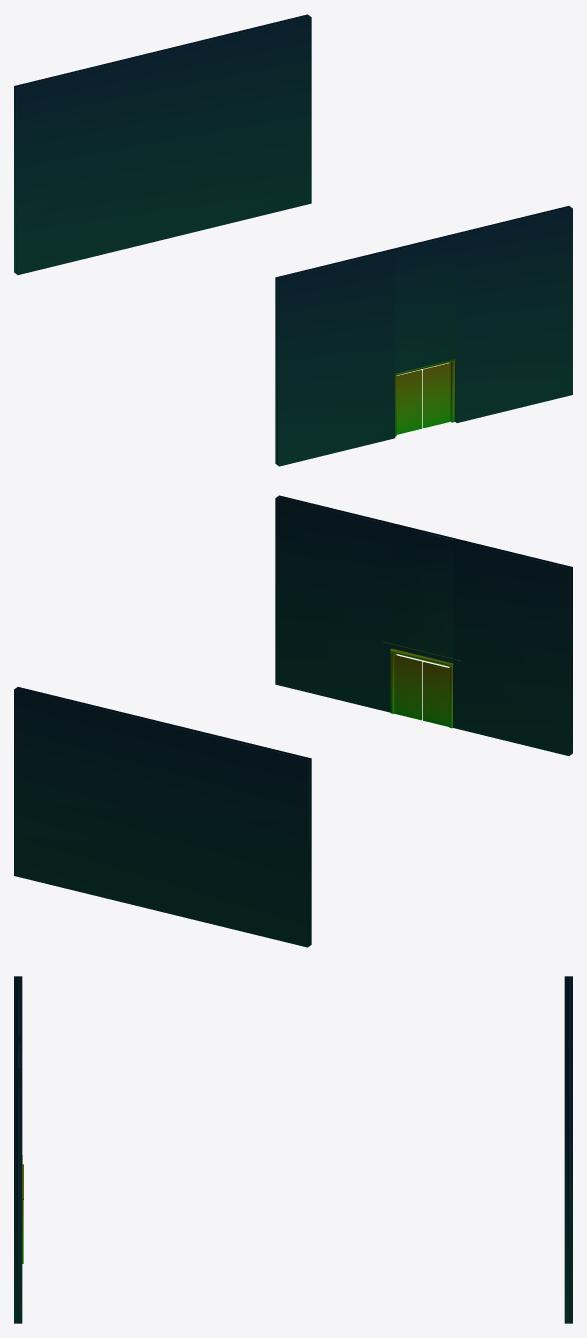
File: archive_end_walls.glb
3 renders of one model, top to bottom at view 1: azimuth 30°, elevation 25°; view 2: azimuth 150°, elevation 25°; view 3: azimuth 270°, elevation 25°, orthographic. The views are drawn at different scales.
Parts seen in each view (by area): view 1: archive_end_walls; view 2: archive_end_walls; view 3: archive_end_walls.
Part boxes in pixels (x1=…): archive_end_walls: x1=14, y1=14, x2=572, y2=466; archive_end_walls: x1=14, y1=495, x2=572, y2=947; archive_end_walls: x1=14, y1=976, x2=572, y2=1323.
Size of what is drawn, in the model's own units: 21.08 by 12.79 by 32.98.
